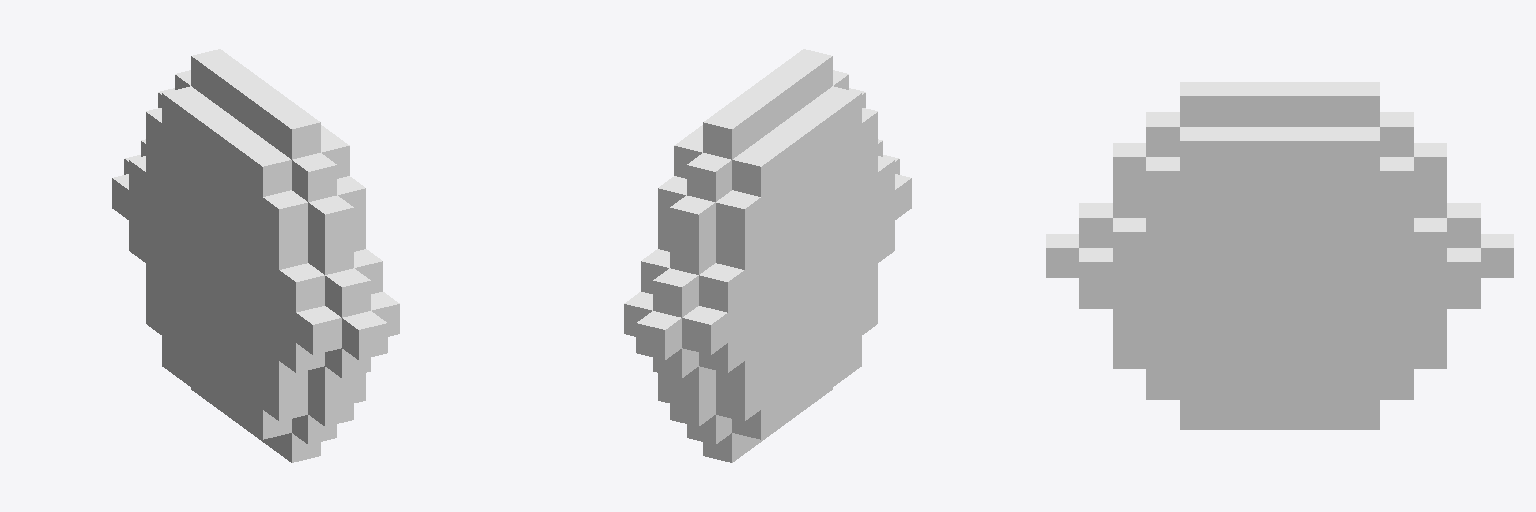
The model's file is Miel.obj.
The picture shows the model from 3 angles: view 1: azimuth 30°, elevation 25°; view 2: azimuth 150°, elevation 25°; view 3: azimuth 270°, elevation 25°; orthographic projection.
Visible parts, largest first — view 1: object 1; view 2: object 1; view 3: object 1.
Boxes of the visible parts, <box> form: object 1: <box>112,49,399,462</box>; object 1: <box>624,49,911,462</box>; object 1: <box>1046,82,1513,429</box>.
Bounding box in the file's own units: 0.3 × 1.1 × 1.4.